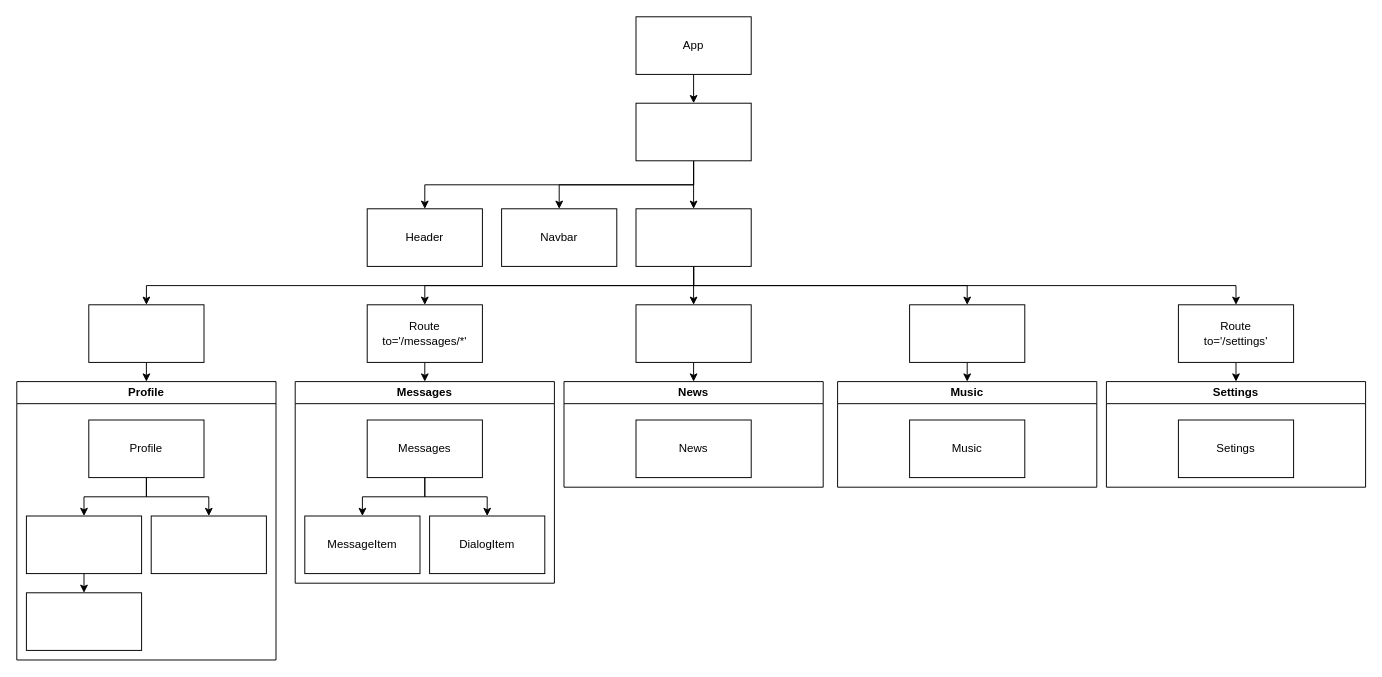
Some shapes in this 1382 by 677 pixel diagram are drawn without their labels. Each missing label, with the centre of its shape:
"BrowserRouter" belongs at [693,131].
"MyPosts" belongs at [83,544].
"Post" belongs at [83,621].
"ProfireInfo" belongs at [208,544].
"Route to='/music'" belongs at [967,333].
"Route to='/news'" belongs at [693,333].
"Route to='/profile'" belongs at [146,333].
"Routes" belongs at [693,237].
